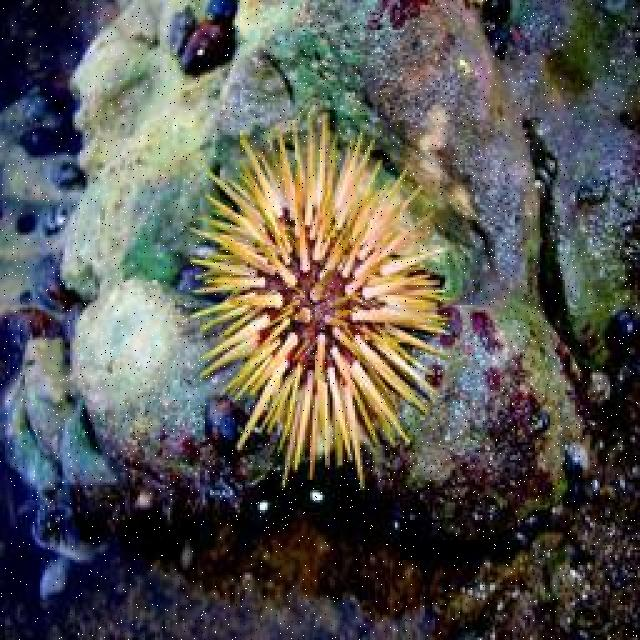reefs: (188, 103, 457, 489), (21, 72, 83, 157), (5, 305, 62, 368), (181, 20, 236, 74), (37, 255, 82, 316), (169, 5, 202, 56), (53, 160, 88, 188), (41, 206, 71, 235), (206, 0, 239, 23)
sea-floor: (60, 0, 549, 308), (1, 283, 288, 499), (348, 300, 592, 525), (511, 0, 638, 361)
